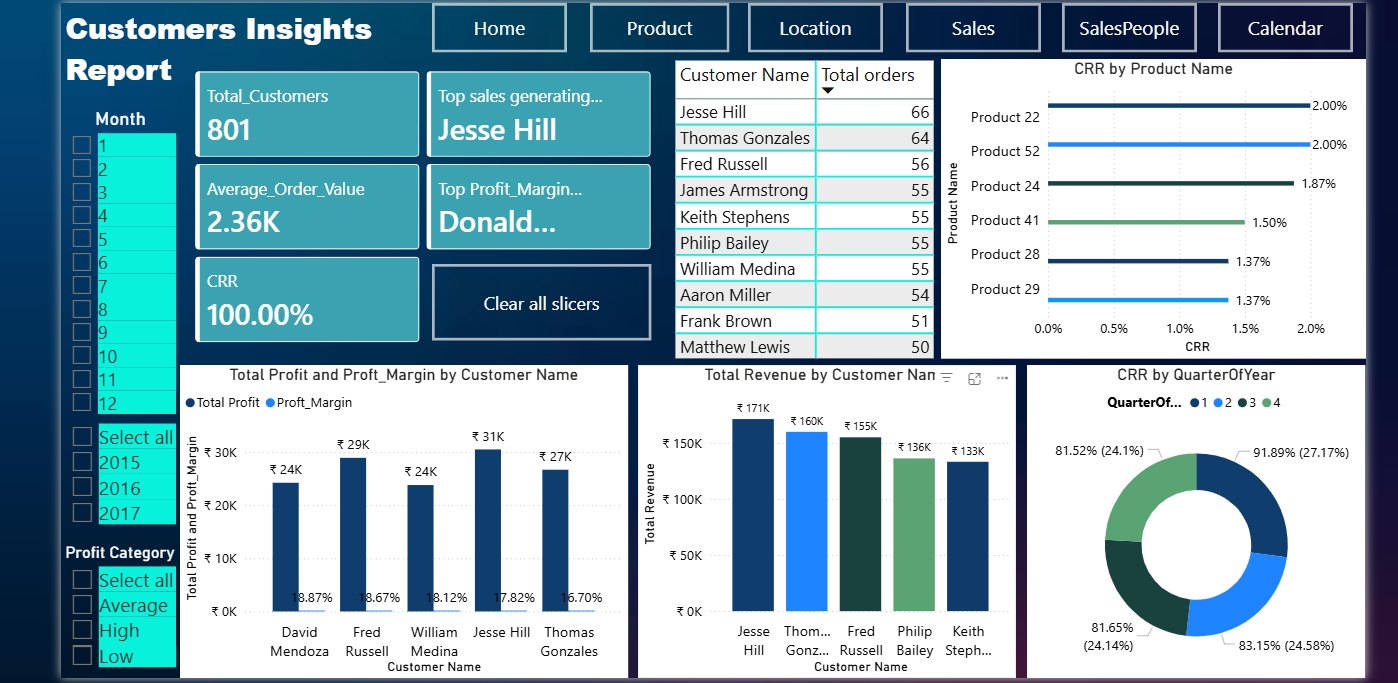

The dashboard page shown, as its layout file describes it:
{"tool":"powerbi","page":{"name":"Customer","canvas":[1450,750],"ordinal":1},"visuals":[{"type":"cardVisual","title":"KPIs","fields":{"Data":["Customer_Data.Total_Customers","Customer_Data.Top sales generating customer","Product_Data.Average_Order_Value","Customer_Data.Top Profit generating Customer","Customer_Data.Customer Retention Rate"]},"box":[132.5,58.8,540,336.2],"z":0},{"type":"textbox","box":[0,0,390,107.5],"z":1000},{"type":"columnChart","title":"Total Revenue by Customer Name","fields":{"Y":["Calendar.Total Revenue"],"Series":["Customer_Data.Customer Name"],"Category":["Customer_Data.Customer Name"]},"box":[641.2,402.5,420,347.5],"z":2000},{"type":"tableEx","fields":{"Values":["Customer_Data.Customer Name","Calendar.Total orders"]},"box":[676.2,58.8,301.2,341.2],"z":3000},{"type":"clusteredColumnChart","fields":{"Category":["Customer_Data.Customer Name"],"Y":["Calendar.Total Profit","Calendar.Proft_Margin"]},"box":[132.5,402.5,497.5,347.5],"z":4000},{"type":"slicer","title":"Year","fields":{"Values":["Calendar.Year"]},"box":[0,462.5,132.5,127.5],"z":5000},{"type":"clusteredBarChart","title":"CRR by Product Name ","fields":{"Category":["Product_Data.Product Name"],"Series":["Product_Data.Product Name"],"Y":["Customer_Data.Customer Retention Rate"]},"box":[977.5,62.5,472.5,332.5],"z":6000},{"type":"slicer","title":"Profit Category","fields":{"Values":["Product_Data.Profit_cate"]},"box":[0,600,132.5,150],"z":7000},{"type":"donutChart","fields":{"Y":["Customer_Data.Customer Retention Rate"],"Category":["Calendar.QuarterOfYear"]},"box":[1073.8,402.5,376.2,347.5],"z":8000},{"type":"shape","box":[412.5,0,150,55],"z":10000},{"type":"actionButton","box":[412.5,290,243.8,85],"z":11000},{"type":"shape","box":[763.8,0,150,55],"z":12000},{"type":"shape","box":[938.8,0,150,55],"z":13000},{"type":"shape","box":[1112.5,0,150,55],"z":14000},{"type":"shape","box":[587.5,0,155,55],"z":15000},{"type":"slicer","title":"Month","fields":{"Values":["Calendar.MonthOfYear"]},"box":[0,116.2,132.5,346.2],"z":16000},{"type":"shape","box":[1285,0,150,55],"z":17000}]}

Visuals, with their boxes in screenshot pixels (x1, y1, x2, y2):
"KPIs" cardVisual: bbox=(177, 53, 663, 355)
textbox: bbox=(58, 0, 409, 97)
"Total Revenue by Customer Name" columnChart: bbox=(635, 362, 1013, 675)
tableEx - Customer_Data.Customer Name x Calendar.Total orders: bbox=(667, 53, 938, 360)
clusteredColumnChart - Customer_Data.Customer Name x Calendar.Total Profit: bbox=(177, 362, 625, 675)
"Year" slicer: bbox=(58, 416, 177, 531)
"CRR by Product Name " clusteredBarChart: bbox=(938, 56, 1363, 355)
"Profit Category" slicer: bbox=(58, 540, 177, 675)
donutChart - Customer_Data.Customer Retention Rate x Calendar.QuarterOfYear: bbox=(1025, 362, 1363, 675)
shape: bbox=(429, 0, 564, 49)
actionButton: bbox=(429, 261, 649, 337)
shape: bbox=(746, 0, 881, 49)
shape: bbox=(903, 0, 1038, 49)
shape: bbox=(1059, 0, 1194, 49)
shape: bbox=(587, 0, 726, 49)
"Month" slicer: bbox=(58, 105, 177, 416)
shape: bbox=(1215, 0, 1350, 49)
